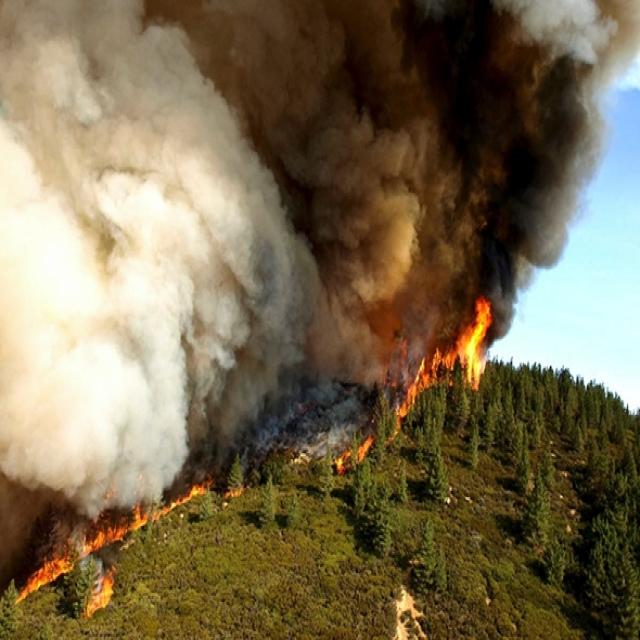smoke: (10, 23, 186, 468)
